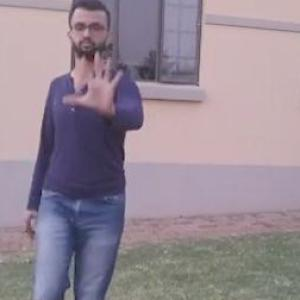follow_hand: (60, 44, 130, 116)
